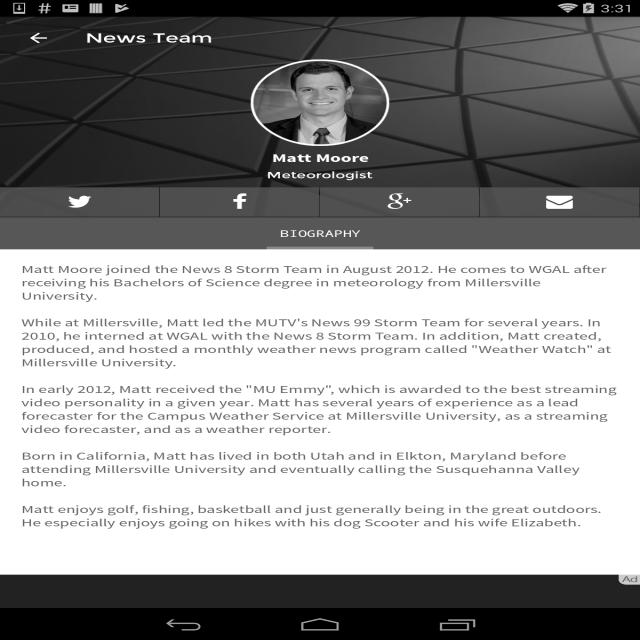ImageButton: (9, 17, 68, 59)
ImageView: (0, 17, 640, 217), (251, 59, 389, 146), (618, 574, 640, 584)
TextView: (21, 263, 619, 556), (0, 187, 159, 217), (160, 187, 319, 217), (320, 187, 479, 217), (480, 187, 639, 217), (85, 30, 213, 46), (272, 150, 368, 167), (266, 169, 372, 181), (280, 227, 360, 240)
